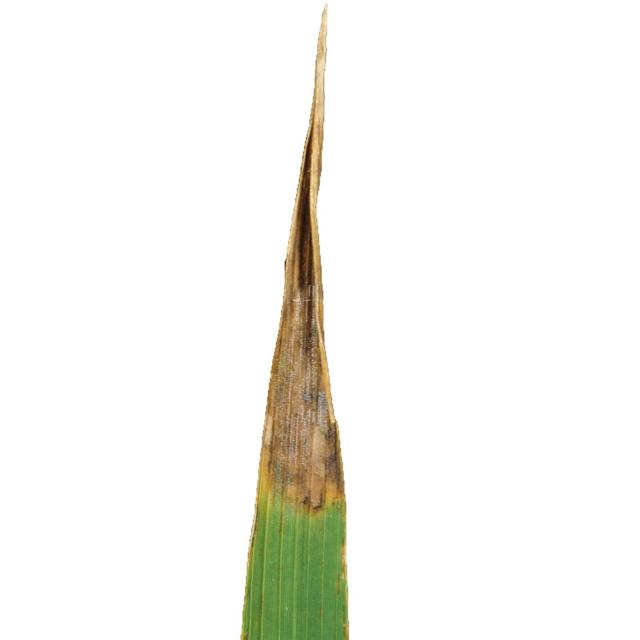Leaf scald: (144, 0, 460, 640)
